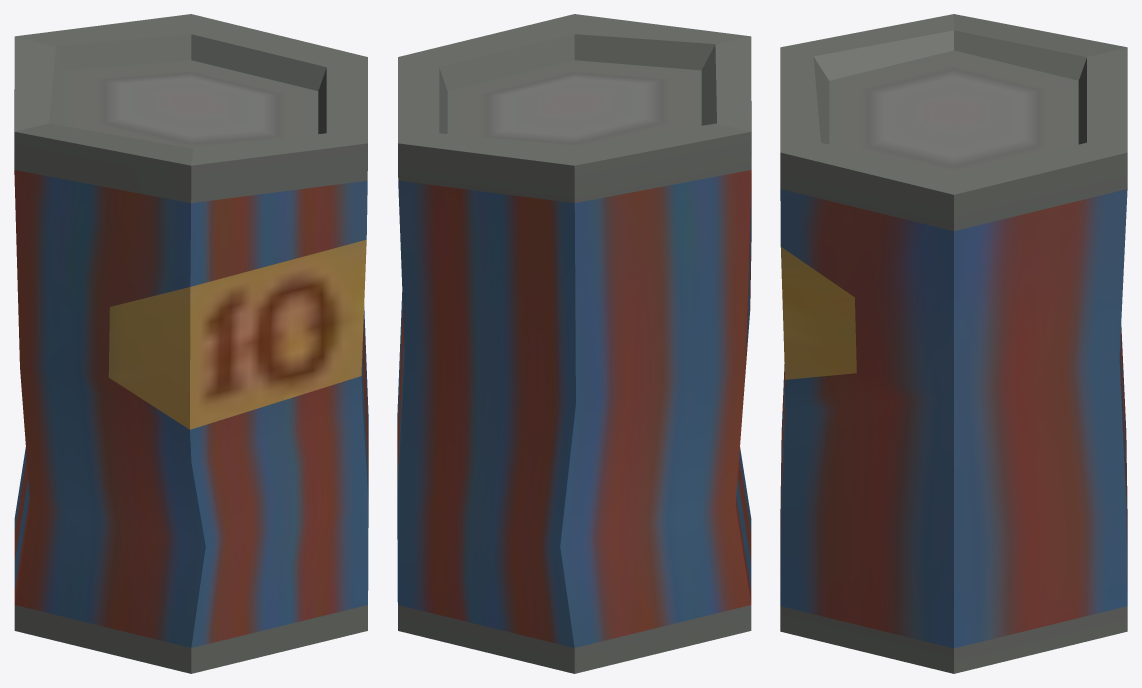
File: SM_Prop_Can_Toss_Can_01.glb
3 views of the same model, side by side, from view 1: azimuth 30°, elevation 25°; view 2: azimuth 150°, elevation 25°; view 3: azimuth 270°, elevation 25° (orthographic).
Parts seen in each view (by area): view 1: SM_Prop_Can_Toss_Can_01; view 2: SM_Prop_Can_Toss_Can_01; view 3: SM_Prop_Can_Toss_Can_01.
Part boxes in pixels (x1=…): SM_Prop_Can_Toss_Can_01: x1=14, y1=14, x2=368, y2=673; SM_Prop_Can_Toss_Can_01: x1=397, y1=14, x2=751, y2=673; SM_Prop_Can_Toss_Can_01: x1=780, y1=14, x2=1127, y2=673.
Size of the model in its own units: 14.88 by 20.4 by 12.86.
1 material, 1 textured.
